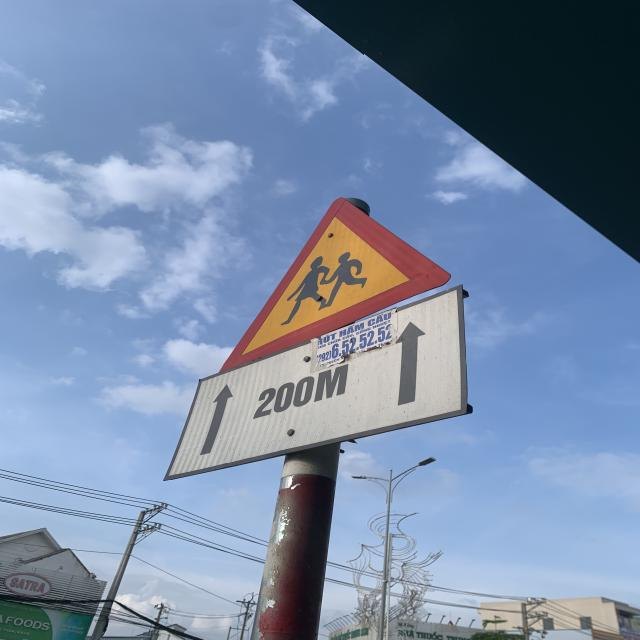Vong_Xuyen: (217, 196, 452, 376)
